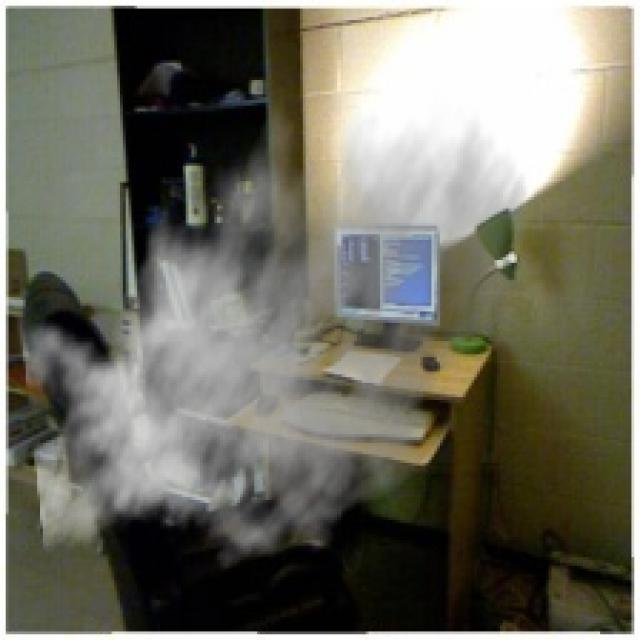smoke: (20, 69, 534, 586)
